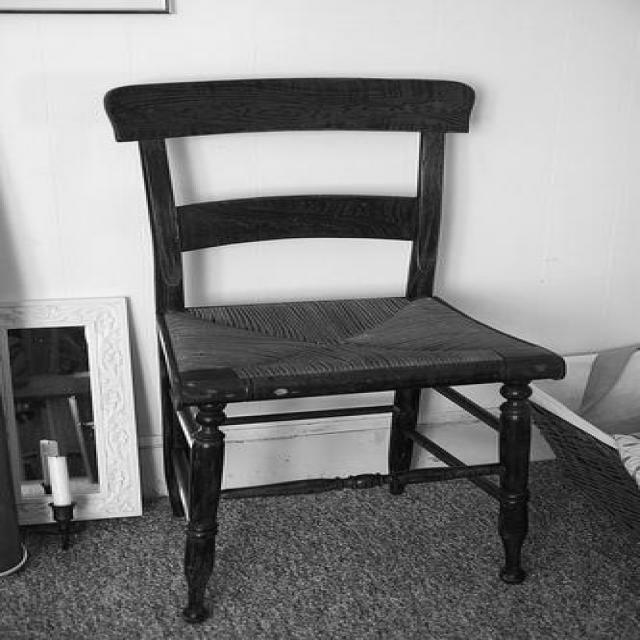chair: (103, 68, 564, 623)
